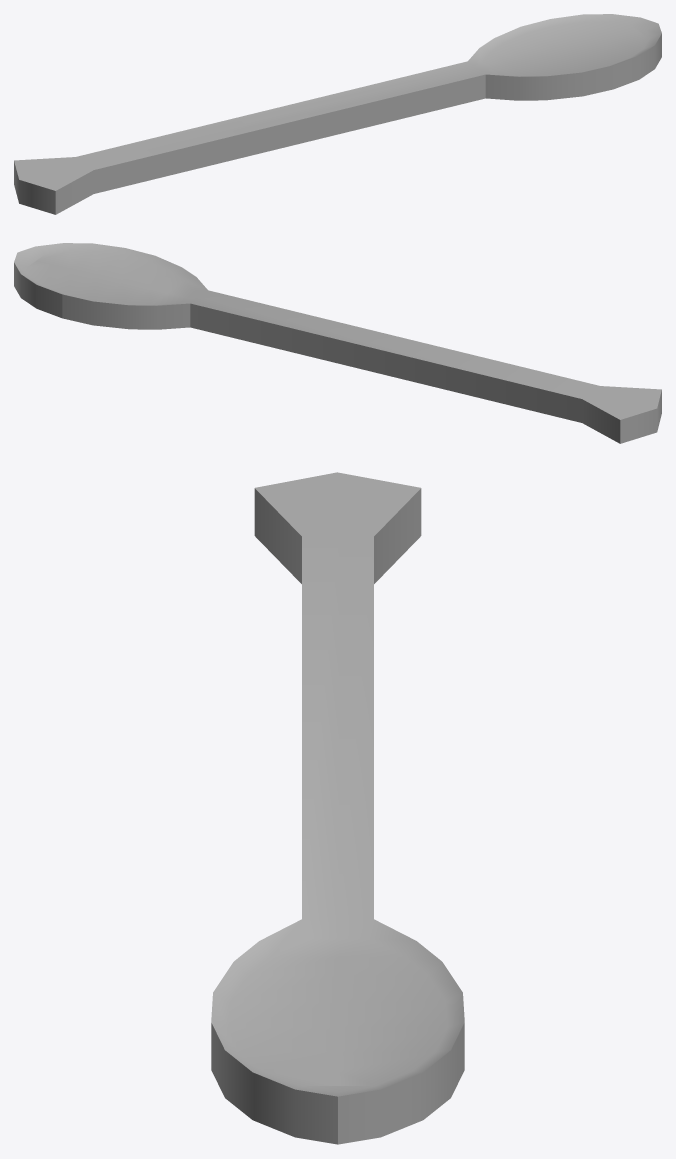
The model's file is DiningSpoon.fbx.
The picture shows the model from 3 angles, top to bottom: view 1: azimuth 30°, elevation 25°; view 2: azimuth 150°, elevation 25°; view 3: azimuth 270°, elevation 25°; orthographic projection. The views are drawn at different scales.
Parts seen in each view (by area): view 1: Spoon:Spoon1; view 2: Spoon:Spoon1; view 3: Spoon:Spoon1.
Boxes of the visible parts, box(x1,y1,x2,y2) form: Spoon:Spoon1: box(14, 14, 661, 214); Spoon:Spoon1: box(14, 243, 661, 443); Spoon:Spoon1: box(211, 472, 464, 1144).
Bounding box in the file's own units: 40.89 × 1.46 × 7.02.
